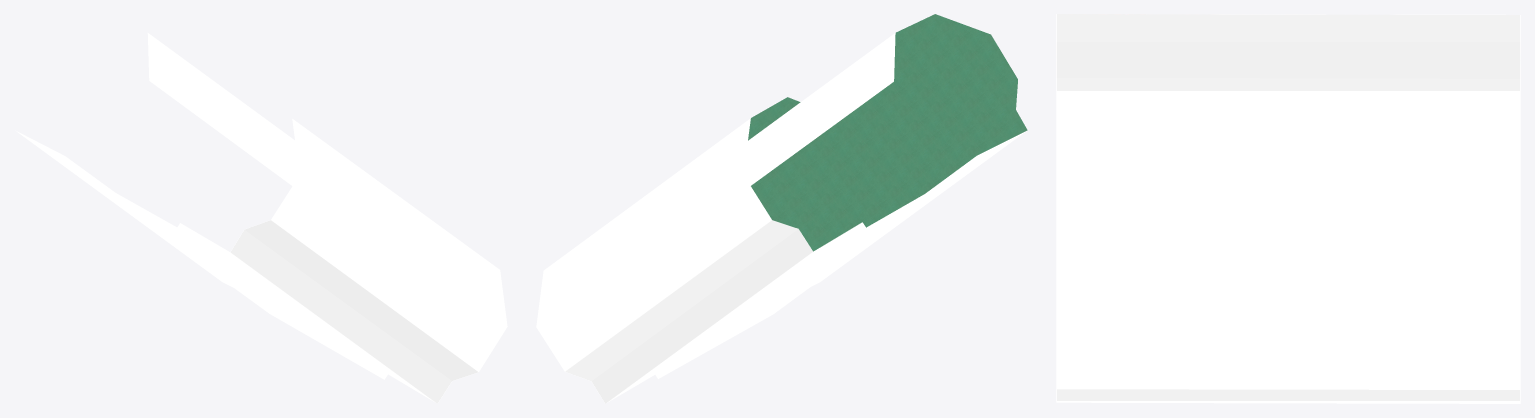
The picture shows the model from 3 angles, left to right: view 1: azimuth 30°, elevation 25°; view 2: azimuth 150°, elevation 25°; view 3: azimuth 270°, elevation 25°; orthographic projection. The views are drawn at different scales.
Visible parts, largest first — view 1: BuildingMaster_2005193901504464452400000000_0; view 2: BuildingMaster_2005193901504464452400000000_0, BuildingMaster_2005193901504464452400000000_1; view 3: BuildingMaster_2005193901504464452400000000_0.
Boxes of the visible parts, x1,y1,x2,y2 form: BuildingMaster_2005193901504464452400000000_0: (15,33,507,403); BuildingMaster_2005193901504464452400000000_0: (536,33,1026,403); BuildingMaster_2005193901504464452400000000_1: (748,14,1027,251); BuildingMaster_2005193901504464452400000000_0: (1056,14,1520,403).
Bounding box in the file's own units: 96.75 × 87.25 × 122.
